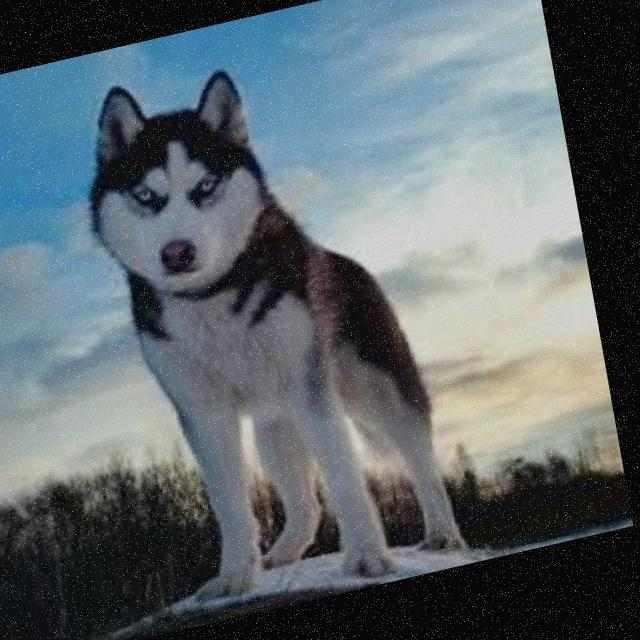dog: (8, 7, 502, 640)
